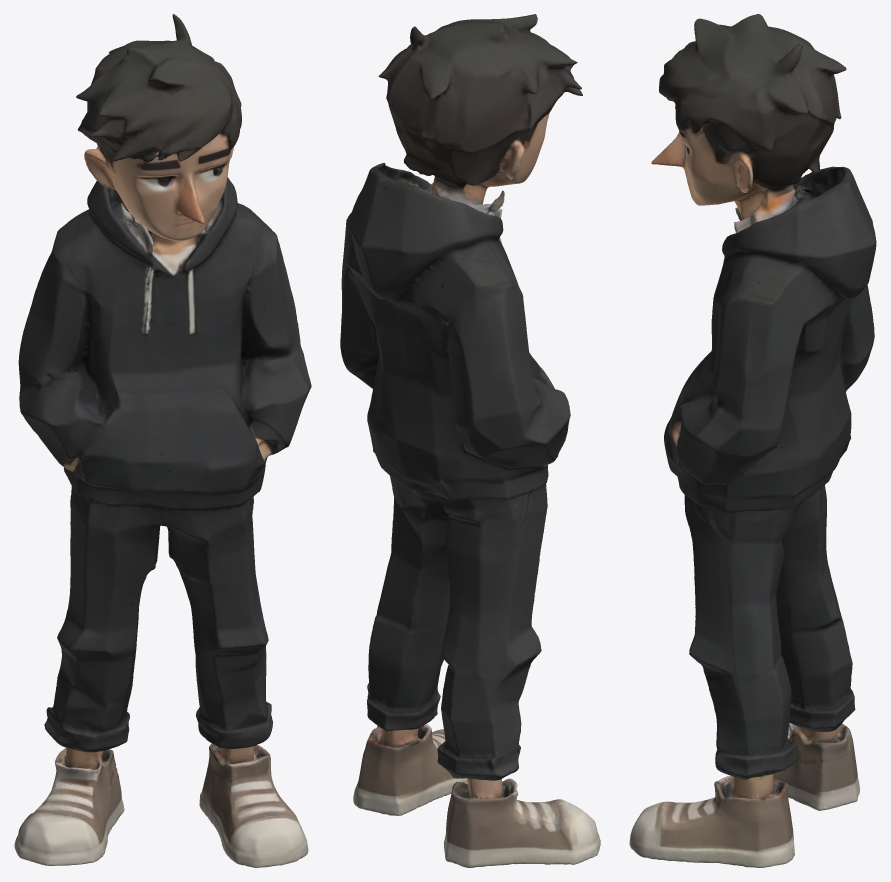
File: character.glb
The picture shows the model from 3 angles, left to right: view 1: azimuth 30°, elevation 25°; view 2: azimuth 150°, elevation 25°; view 3: azimuth 270°, elevation 25°; orthographic projection.
Bounding box in the file's own units: 0.7033 × 2 × 0.5684.
Materials: 1 (1 with a texture image).
